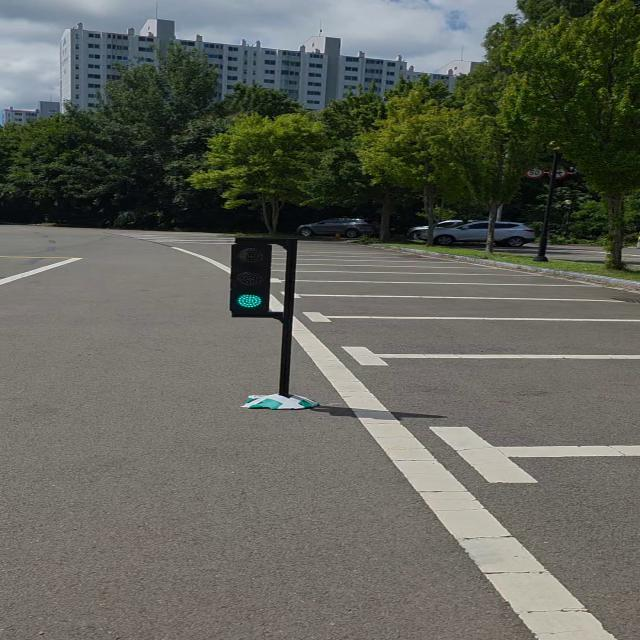green: (228, 237, 274, 316)
